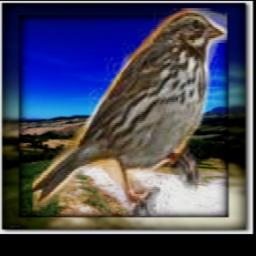Sparrow: (32, 8, 226, 216)
